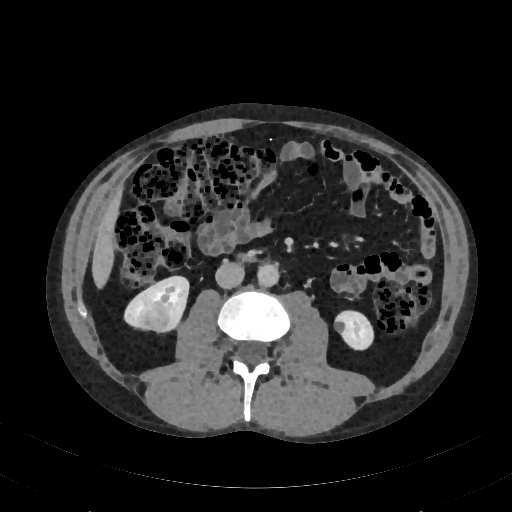Lesion: (135, 299, 174, 330)
